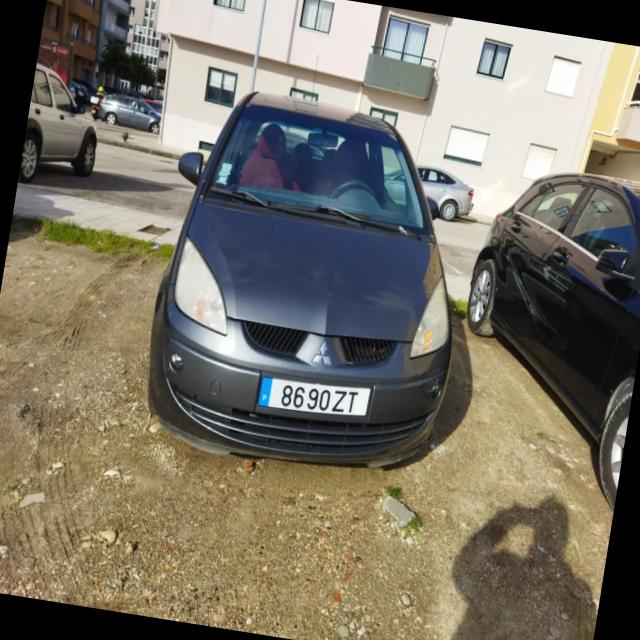portuguese-license-plates: (253, 376, 374, 421)
